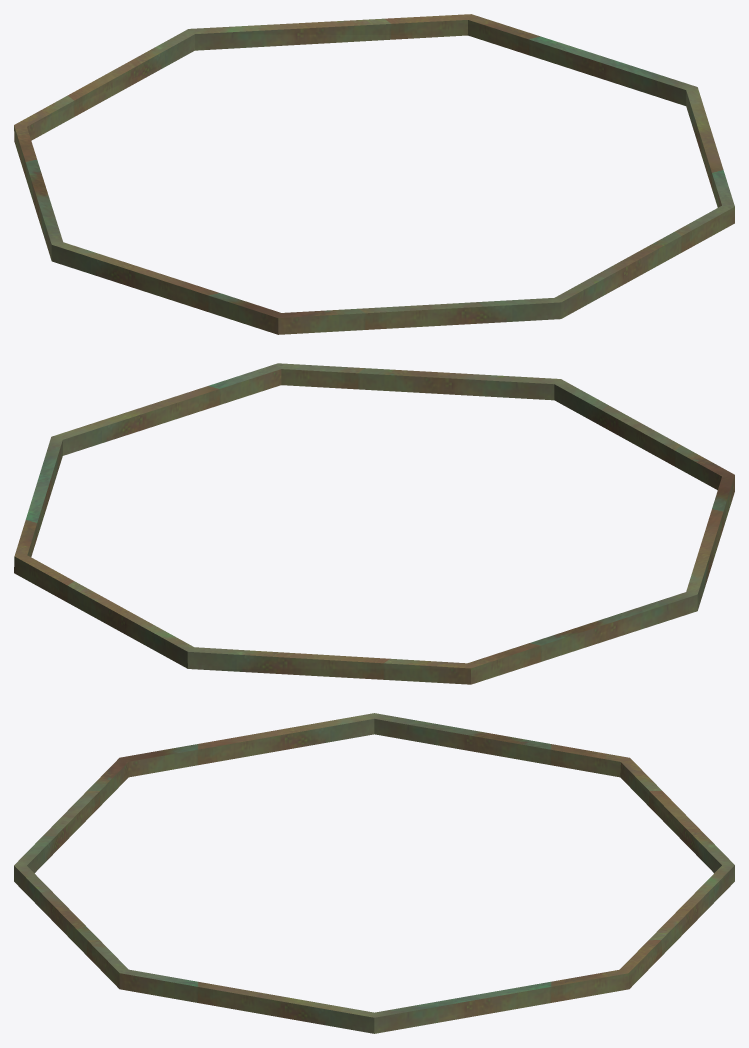
The model's file is GH_1_EmbLat_1.gltf.
The picture shows the model from 3 angles, top to bottom: view 1: azimuth 30°, elevation 25°; view 2: azimuth 150°, elevation 25°; view 3: azimuth 270°, elevation 25°; orthographic projection. The views are drawn at different scales.
Parts seen in each view (by area): view 1: GH_1_EmbLat_1; view 2: GH_1_EmbLat_1; view 3: GH_1_EmbLat_1.
Part boxes in pixels (x1,y1,x2,y2): GH_1_EmbLat_1: (14,14,734,334); GH_1_EmbLat_1: (14,363,734,684); GH_1_EmbLat_1: (14,713,734,1033).
Size of the model in its own units: 23.41 by 0.5922 by 23.41.
Materials: 1 (1 with a texture image).
